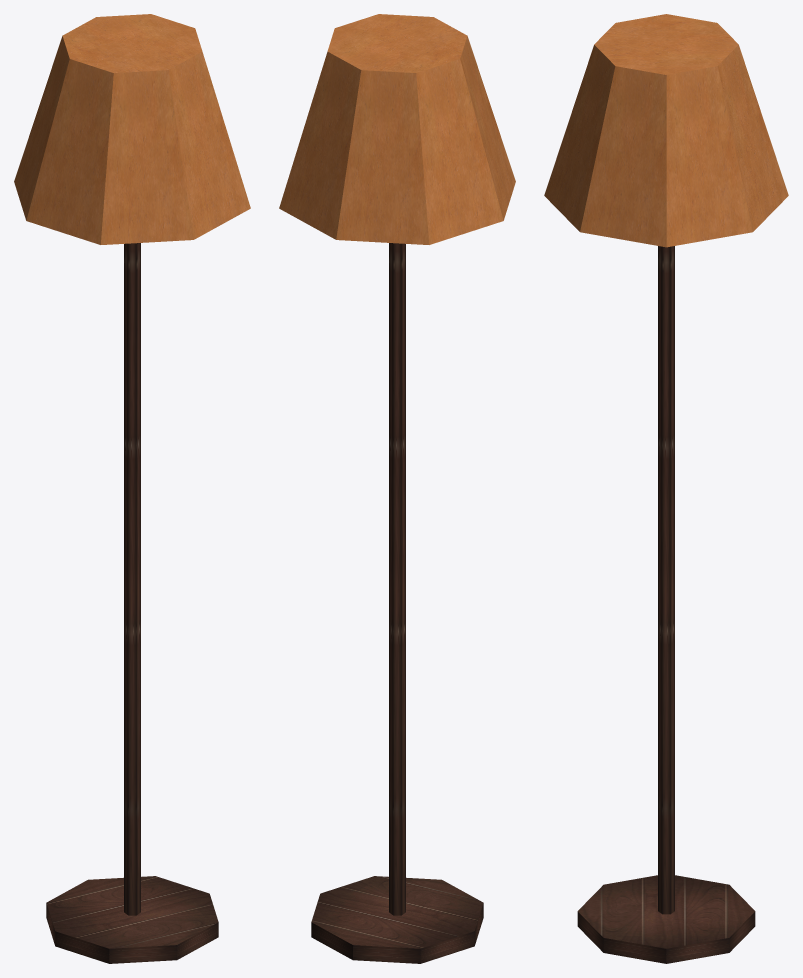
The model's file is Lamp_Floor.fbx.
3 renders of one model, left to right at view 1: azimuth 30°, elevation 25°; view 2: azimuth 150°, elevation 25°; view 3: azimuth 270°, elevation 25°, orthographic.
Parts seen in each view (by area): view 1: Lamp_Floor; view 2: Lamp_Floor; view 3: Lamp_Floor.
Part boxes in pixels (x1,y1,x2,y2): Lamp_Floor: (14,14,250,963); Lamp_Floor: (279,14,515,963); Lamp_Floor: (544,14,788,963).
Size of the model in its own units: 0.44 by 1.75 by 0.44.
